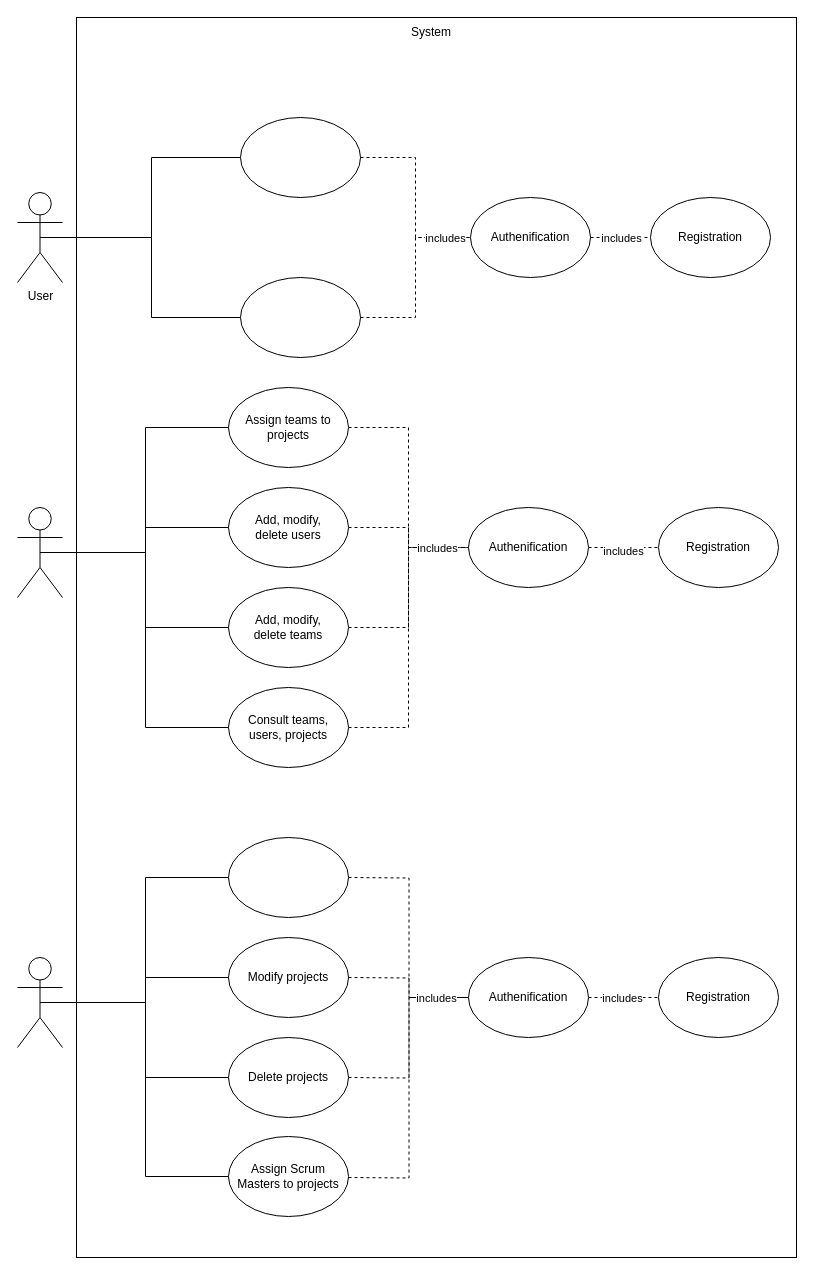
This 814x1275 diagram has some shape labels left out. Each missing label, with the centre of its shape:
Consult projects: point 300,157
Consult teams: point 300,317
Create projects: point 288,877
Product Owner: point 39,1002
Scrum Master: point 39,552
